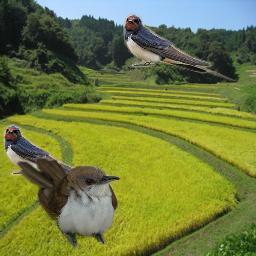Cuckoo: (17, 157, 122, 250)
Swallow: (123, 13, 237, 81), (3, 124, 110, 188)
